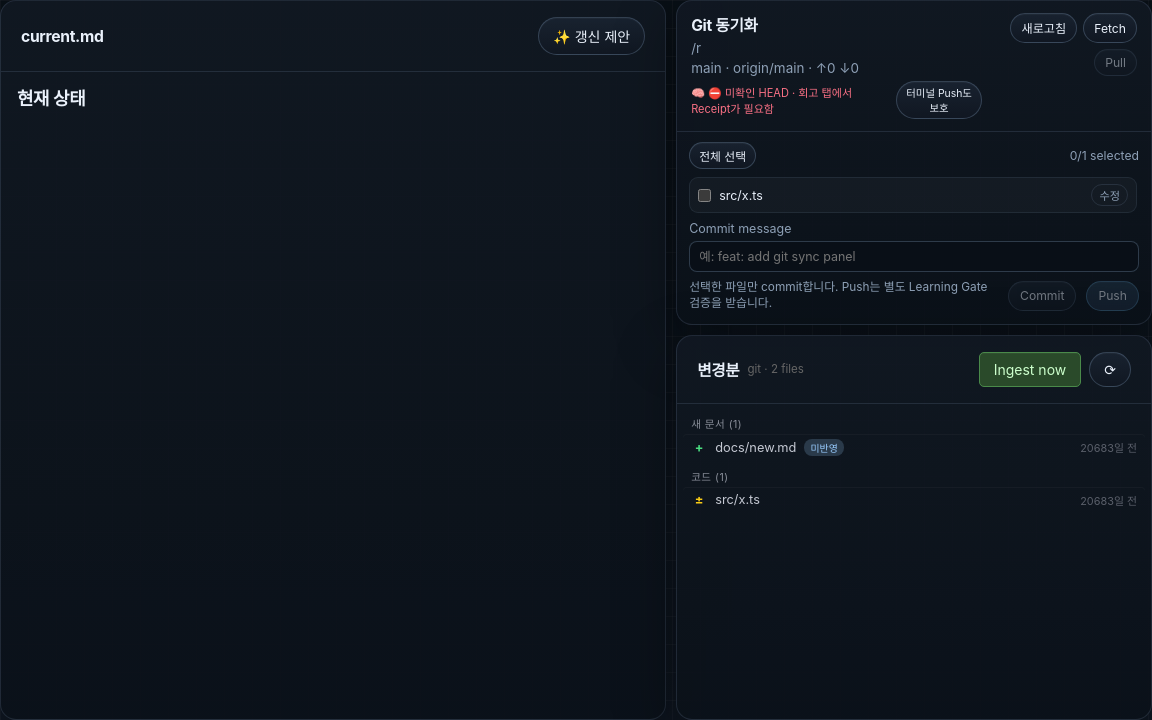
ProjectDocumentsView › Git sync panel explains an uncovered HEAD and installs terminal push protection explicitly
Expected: the text "🧠 ⛔ 미확인 HEAD · 회고 탭에서 Receipt가 필요함" is shown, top-left (691, 86), bottom-right (852, 116)
Click the button "터미널 Push도 보호". click: (939, 100)
box: top-left (896, 81), bottom-right (982, 119)
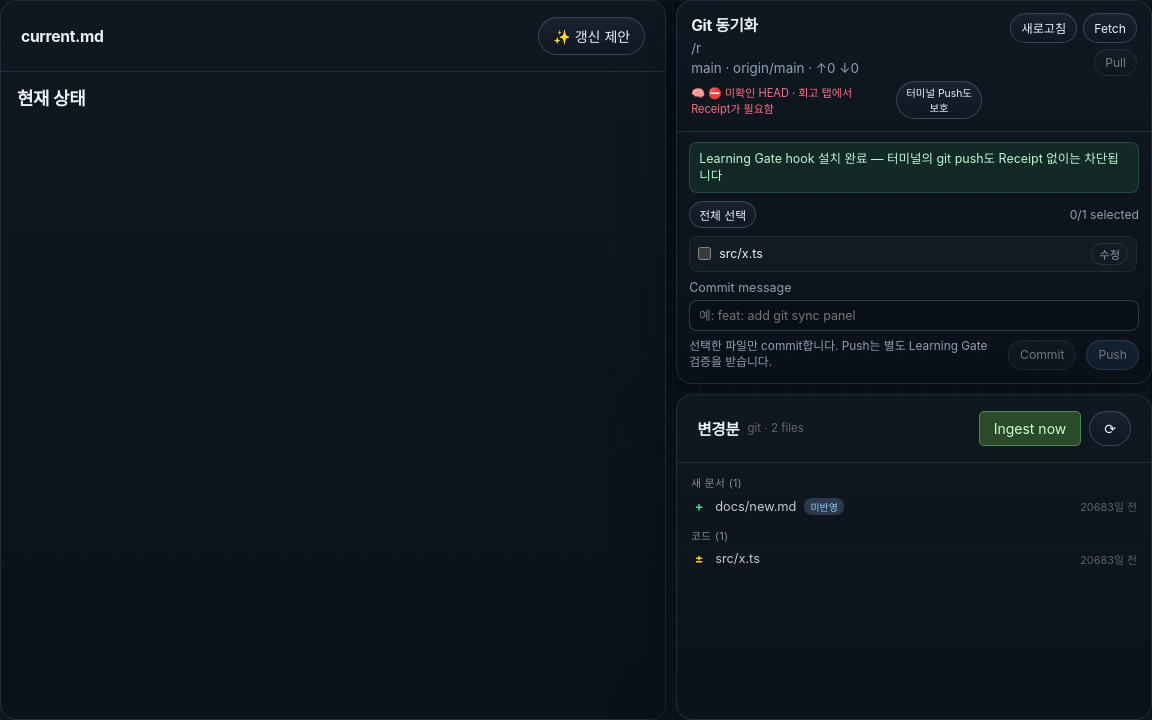
Expected: the text "Learning Gate hook 설치 완료 — 터미널의 git push도 Receipt 없이는 차단됩니다" is shown, top-left (689, 142), bottom-right (1139, 193)
